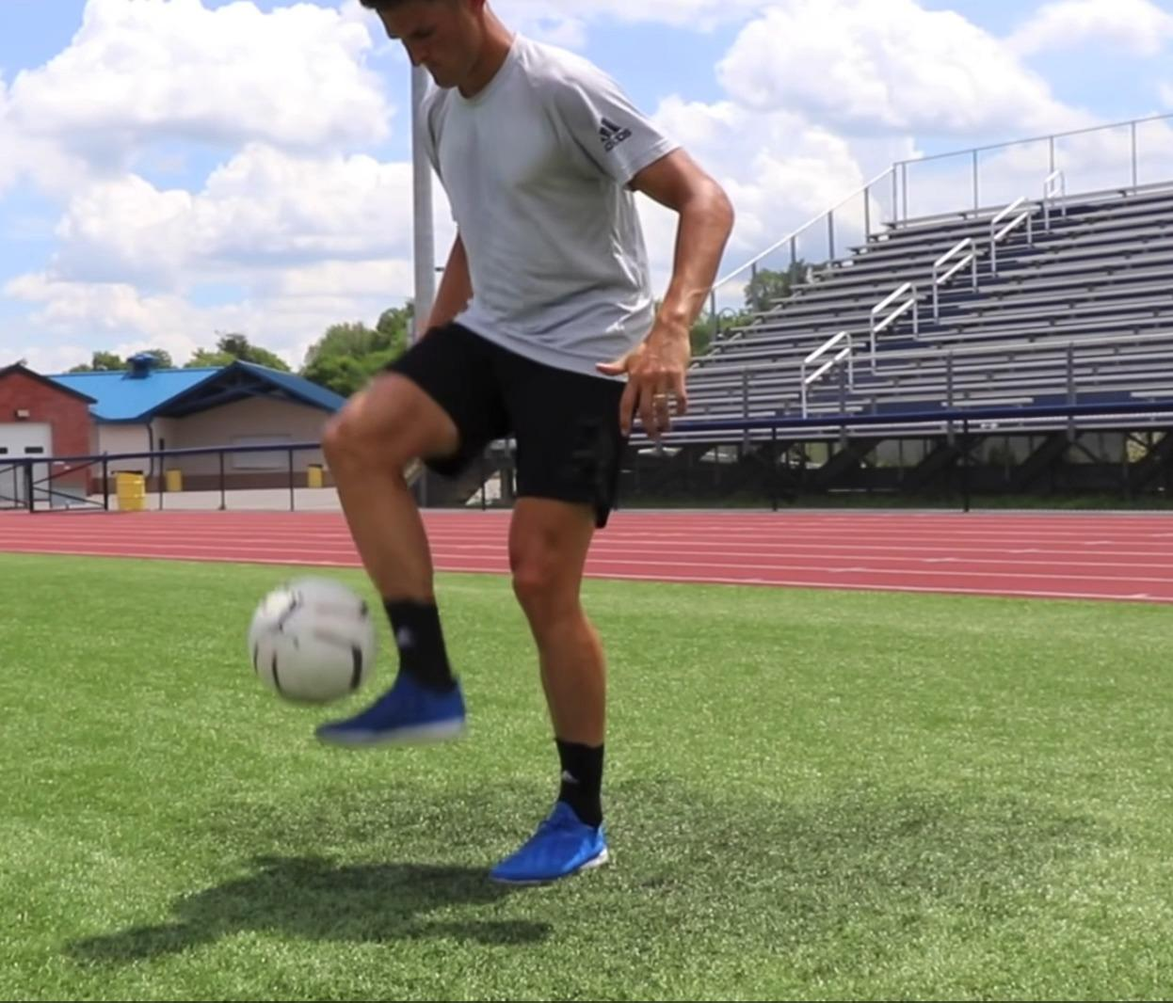ball: (245, 574, 378, 706)
foot: (314, 670, 465, 746), (493, 803, 605, 883)
person: (319, 0, 738, 887)
